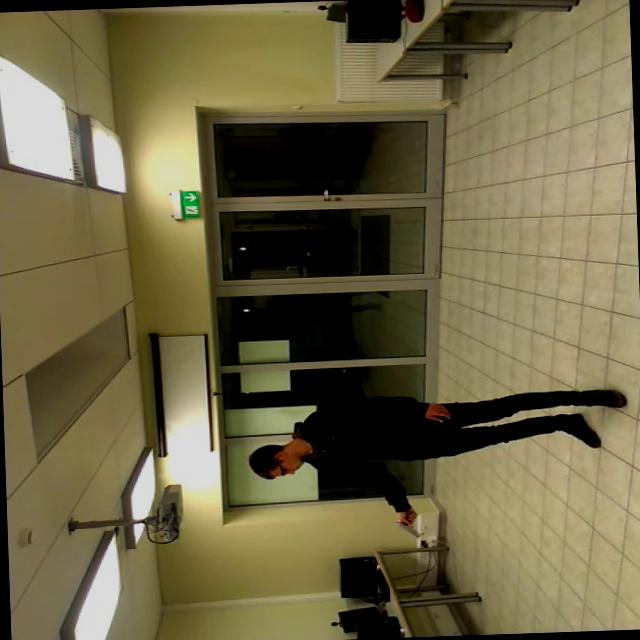handgun: (388, 502, 441, 548)
